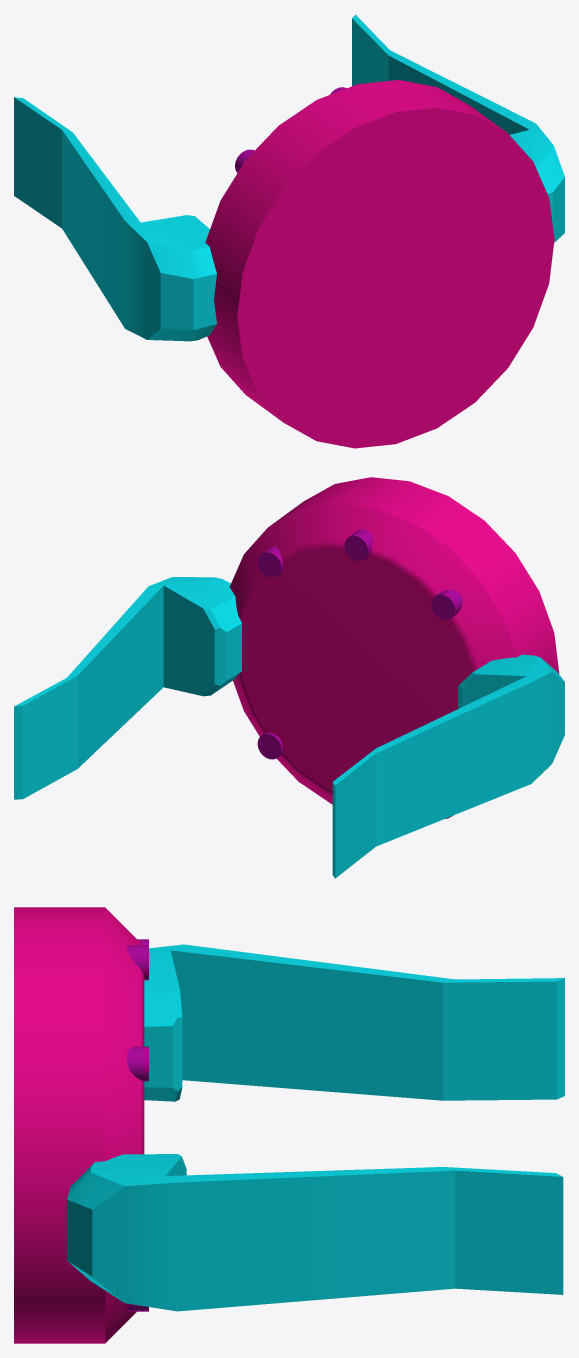
The model's file is HandEnd_V1.1.fbx.
3 views of the same model, one above another, from view 1: azimuth 30°, elevation 25°; view 2: azimuth 150°, elevation 25°; view 3: azimuth 270°, elevation 25° (orthographic). The views are drawn at different scales.
Visible parts, largest first — view 1: ezaeazeazezaeazeazeazeazezaeazea:polySurface2927; view 2: ezaeazeazezaeazeazeazeazezaeazea:polySurface2927; view 3: ezaeazeazezaeazeazeazeazezaeazea:polySurface2927.
Boxes of the visible parts, <box> form: ezaeazeazezaeazeazeazeazezaeazea:polySurface2927: <box>14,14,564,448</box>; ezaeazeazezaeazeazeazeazezaeazea:polySurface2927: <box>14,477,564,878</box>; ezaeazeazezaeazeazeazeazezaeazea:polySurface2927: <box>14,907,564,1343</box>.
Size of the model in its own units: 32.17 by 25 by 31.45.
